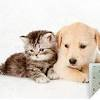cat: (20, 29, 58, 62)
dog: (55, 23, 100, 68)
